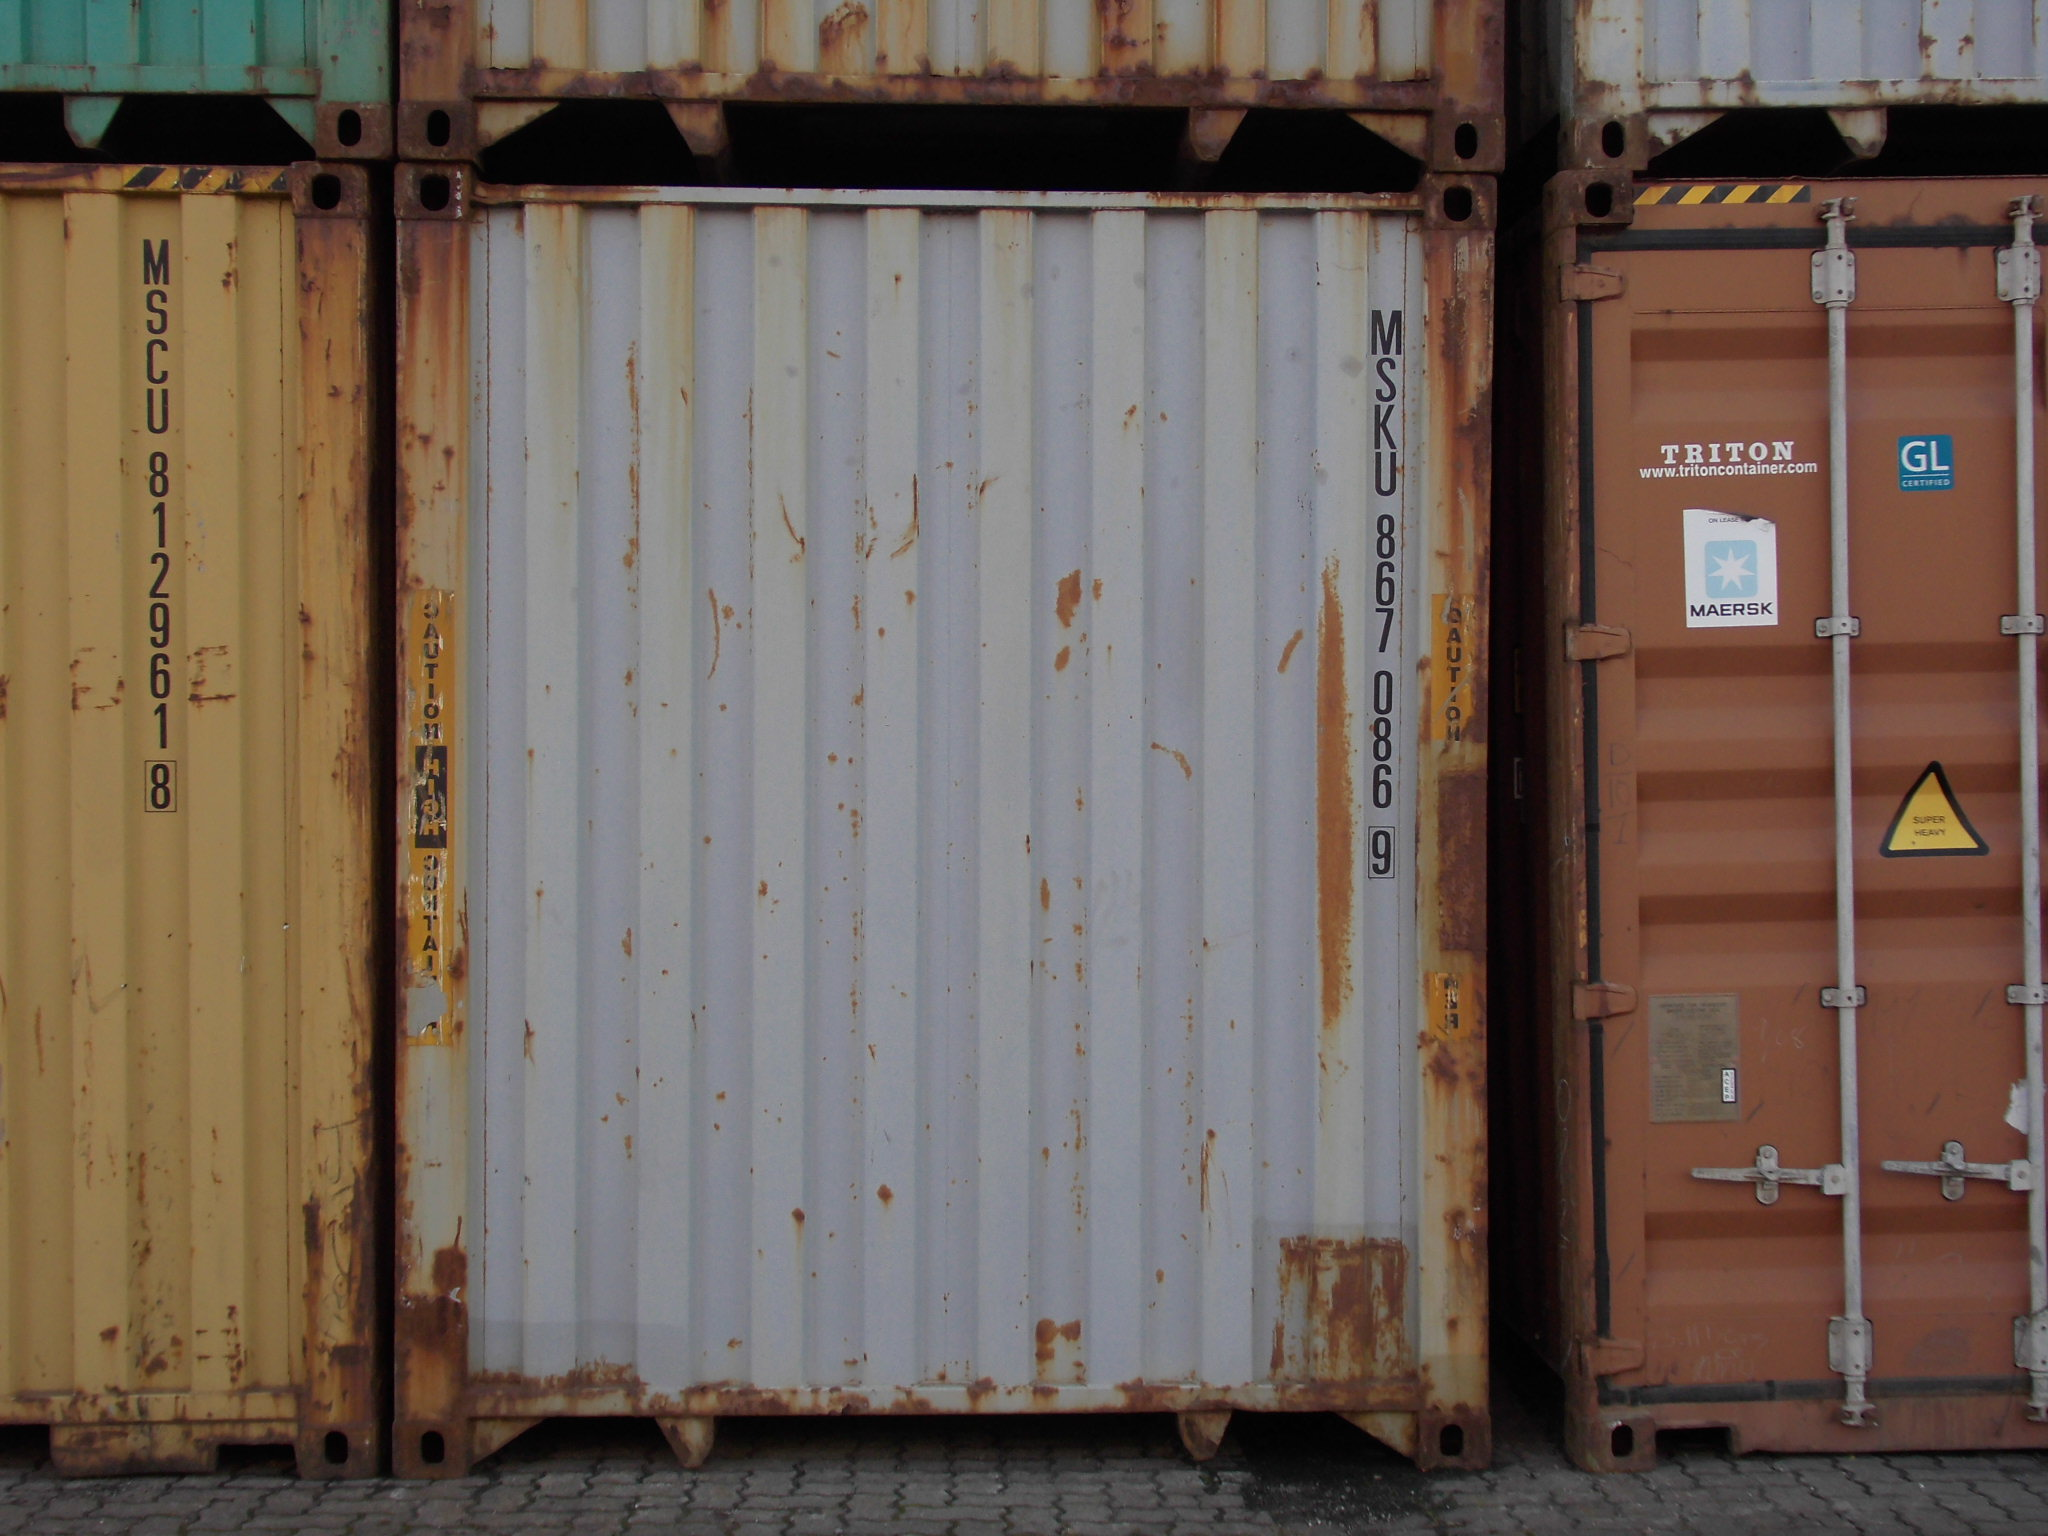container_no_door: (393, 157, 1509, 1471)
